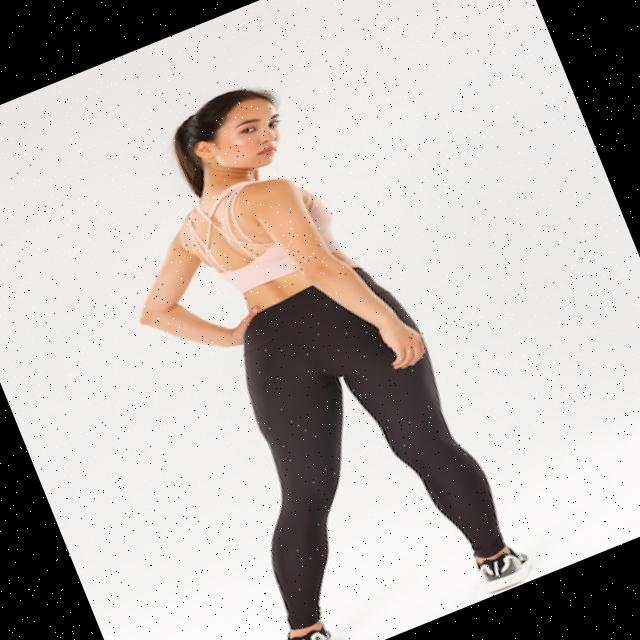Person: (74, 51, 538, 640)
